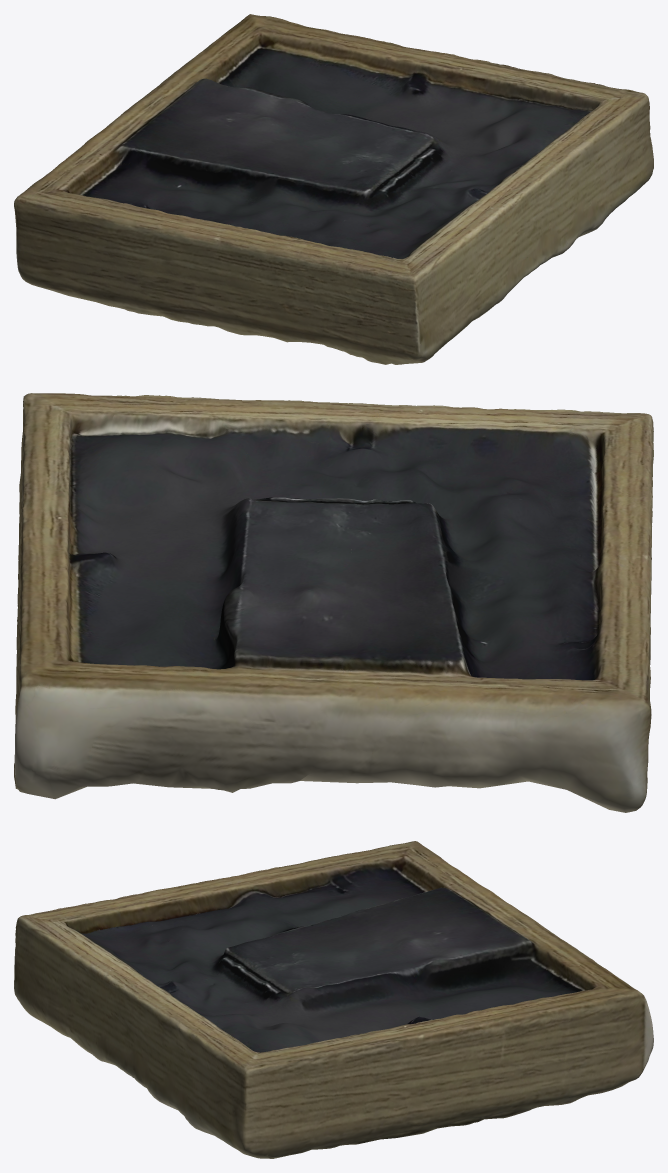
3 views of the same model, one above another, from view 1: azimuth 30°, elevation 25°; view 2: azimuth 150°, elevation 25°; view 3: azimuth 270°, elevation 25° (orthographic). The views are drawn at different scales.
Bounding box in the file's own units: 0.6268 × 0.1401 × 0.637.
1 material, 1 textured.
